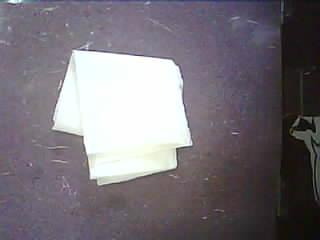paper: (52, 50, 192, 184)
